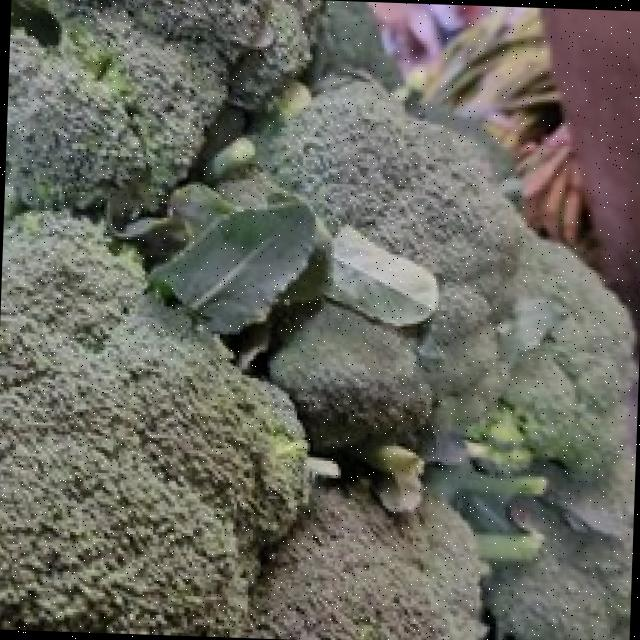Broccoli: (0, 212, 487, 640), (267, 80, 633, 470), (273, 82, 631, 468), (0, 214, 306, 637), (5, 0, 320, 209), (4, 0, 317, 209), (247, 483, 480, 640), (484, 453, 635, 640), (486, 458, 635, 640)
